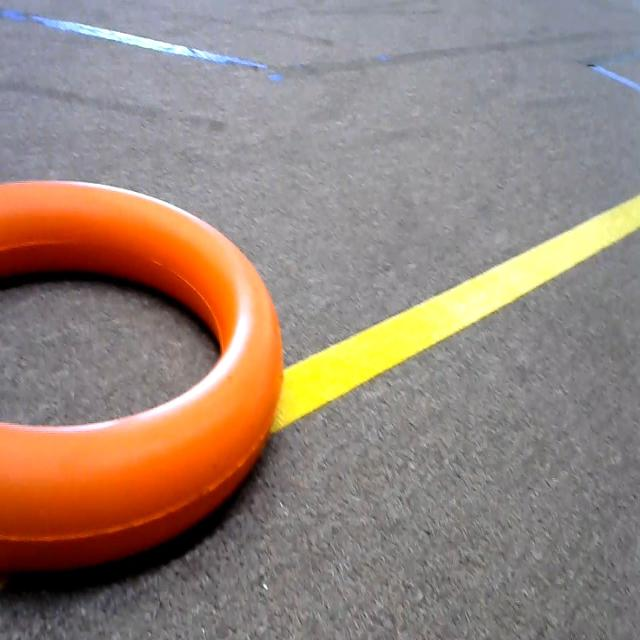note: (0, 167, 292, 568)
